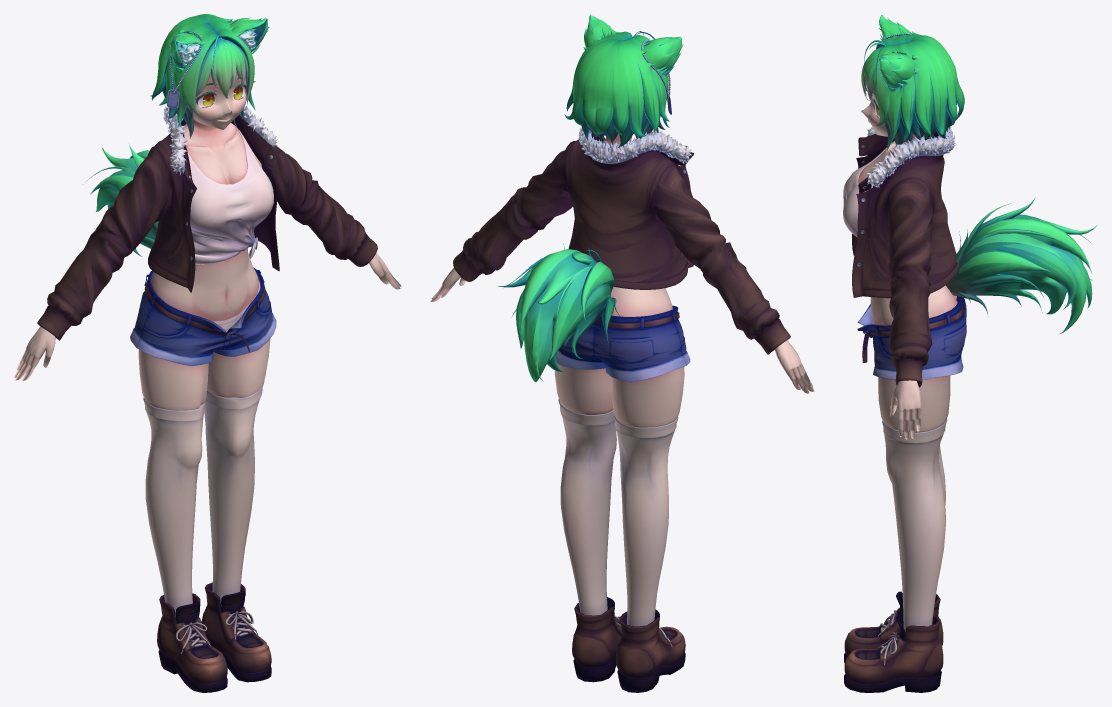
Rendered from shibahu.obj.
The picture shows the model from 3 angles, left to right: view 1: azimuth 30°, elevation 25°; view 2: azimuth 150°, elevation 25°; view 3: azimuth 270°, elevation 25°; orthographic projection.
Visible parts, largest first — view 1: Shibahu; view 2: Shibahu; view 3: Shibahu.
Boxes of the visible parts, left/top/right/bottom form: Shibahu: left=14, top=14, right=401, bottom=692; Shibahu: left=430, top=14, right=814, bottom=692; Shibahu: left=843, top=15, right=1096, bottom=692.
Size of the model in its own units: 97.82 by 156 by 56.57.
Materials: 7 (7 with a texture image).
